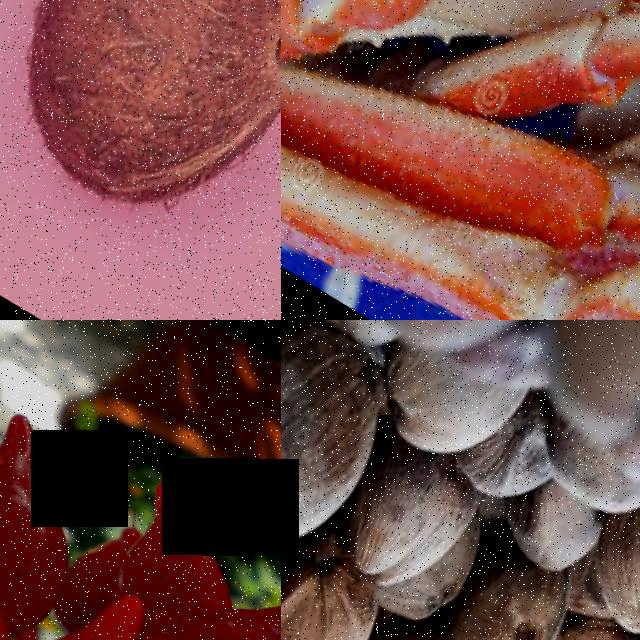chilli: (0, 549, 215, 640)
coconut: (0, 0, 281, 270), (281, 320, 412, 588), (319, 417, 489, 609), (429, 533, 582, 640), (281, 516, 399, 640), (582, 439, 640, 640)
crab: (281, 0, 640, 320)
